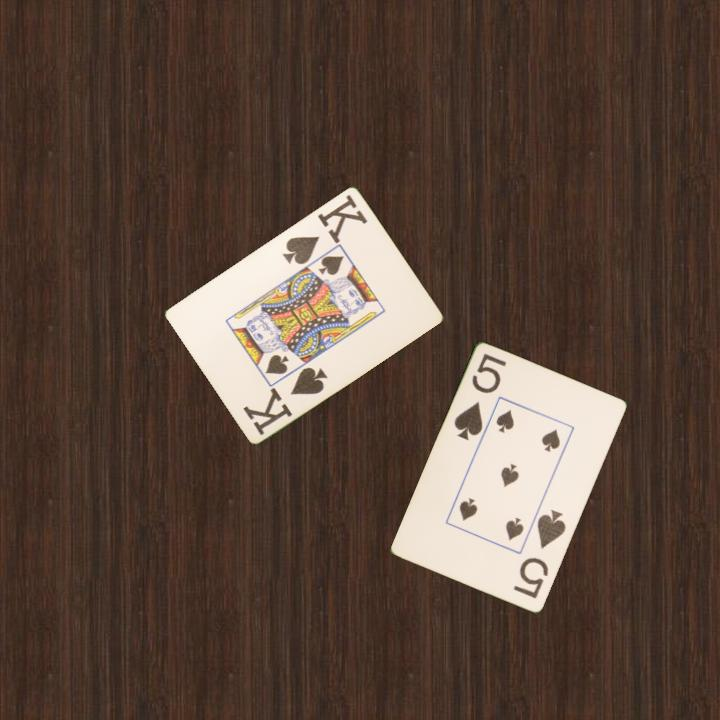5s: (510, 506, 569, 602), (450, 350, 509, 444)
Ks: (278, 190, 370, 267), (239, 363, 331, 438)
